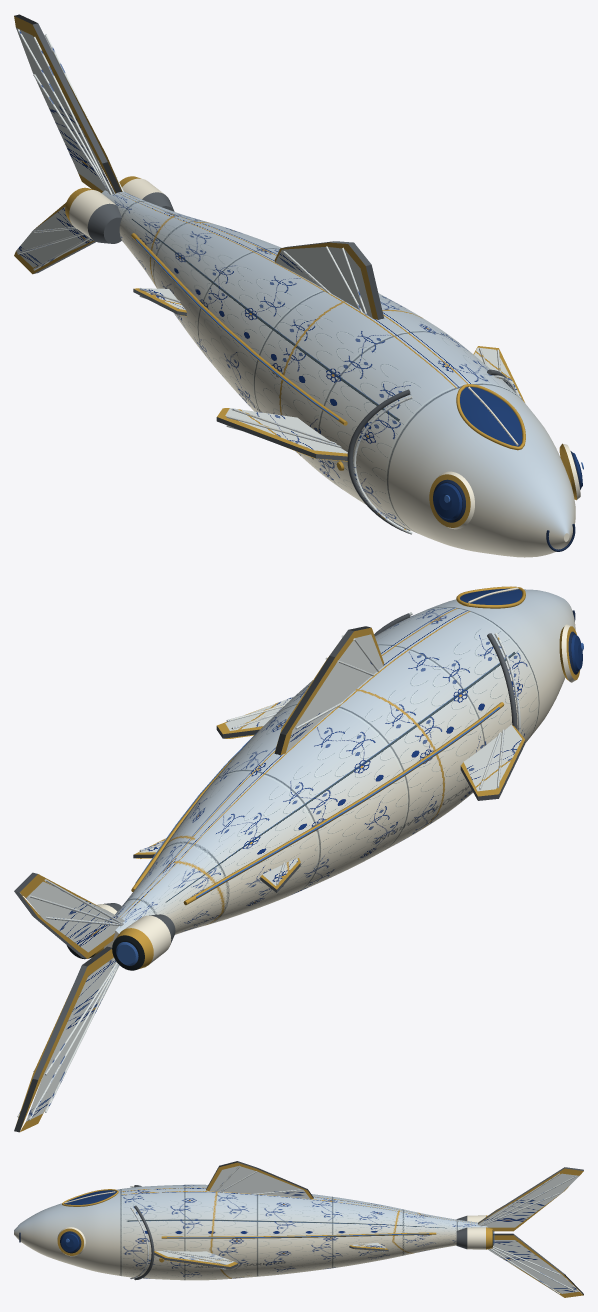
The picture shows the model from 3 angles, top to bottom: view 1: azimuth 30°, elevation 25°; view 2: azimuth 150°, elevation 25°; view 3: azimuth 270°, elevation 25°; orthographic projection. The views are drawn at different scales.
Visible parts, largest first — view 1: sardine_hull; view 2: sardine_hull; view 3: sardine_hull.
Part boxes in pixels (x1,y1,x2,y2): sardine_hull: [14, 14, 583, 557]; sardine_hull: [14, 586, 583, 1132]; sardine_hull: [14, 1161, 583, 1297].
Size of the model in its own units: 4.8 by 4.25 by 16.2.
Materials: 1 (1 with a texture image).
